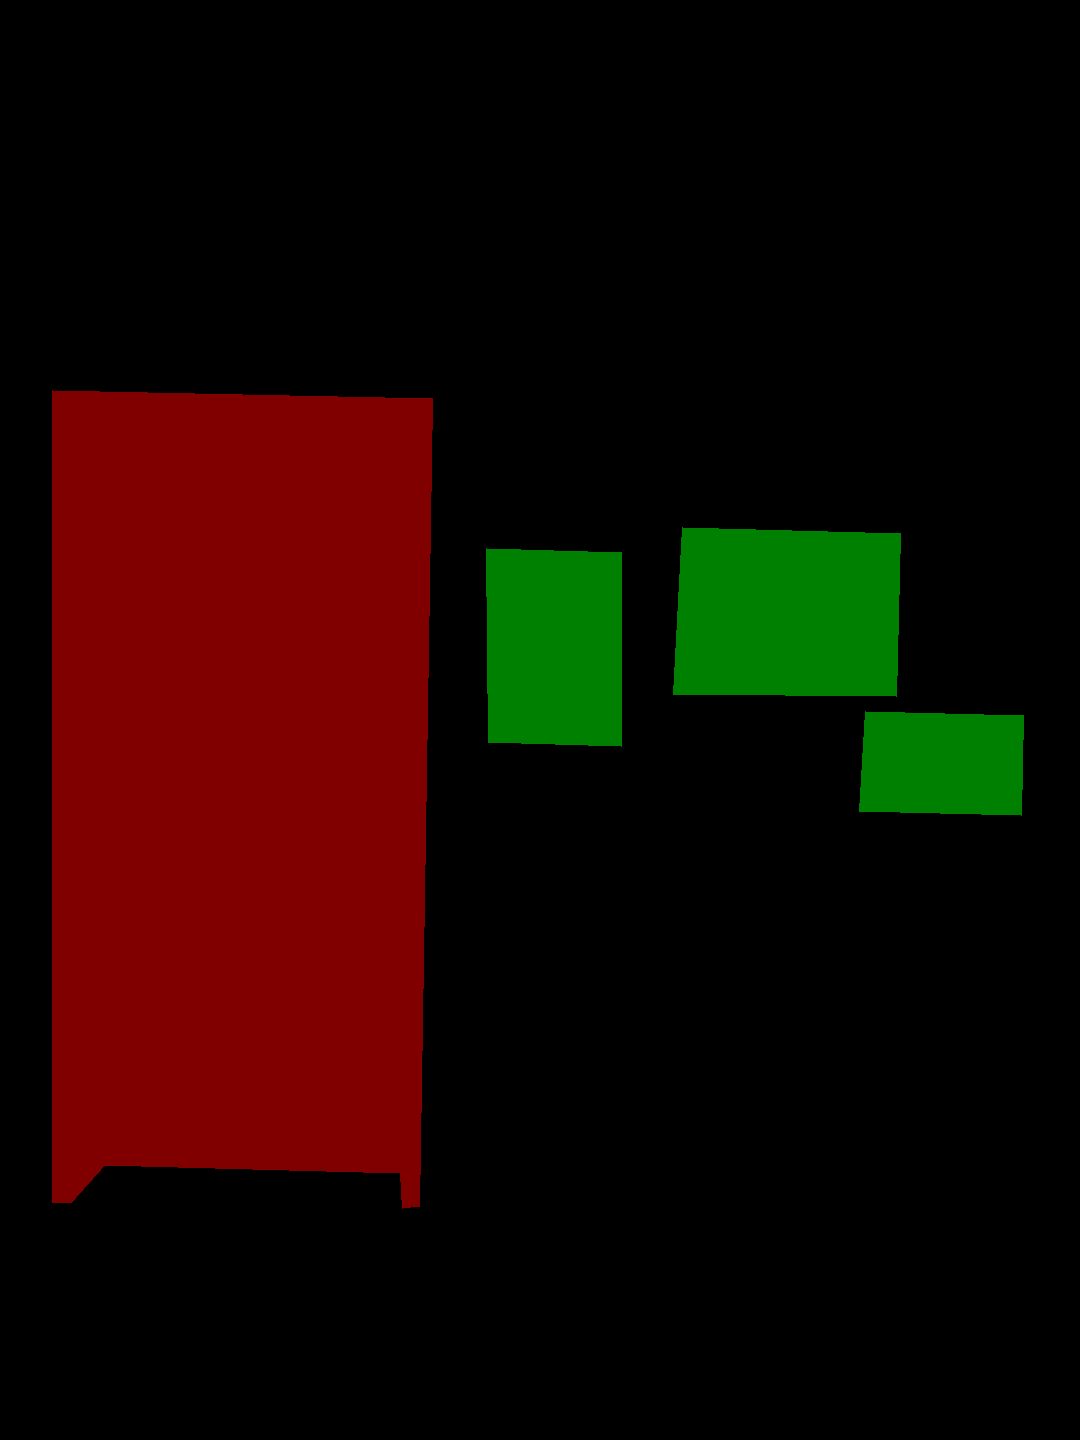door: (52, 390, 432, 1208)
sign: (673, 527, 900, 696), (486, 548, 621, 746), (859, 711, 1023, 815)
